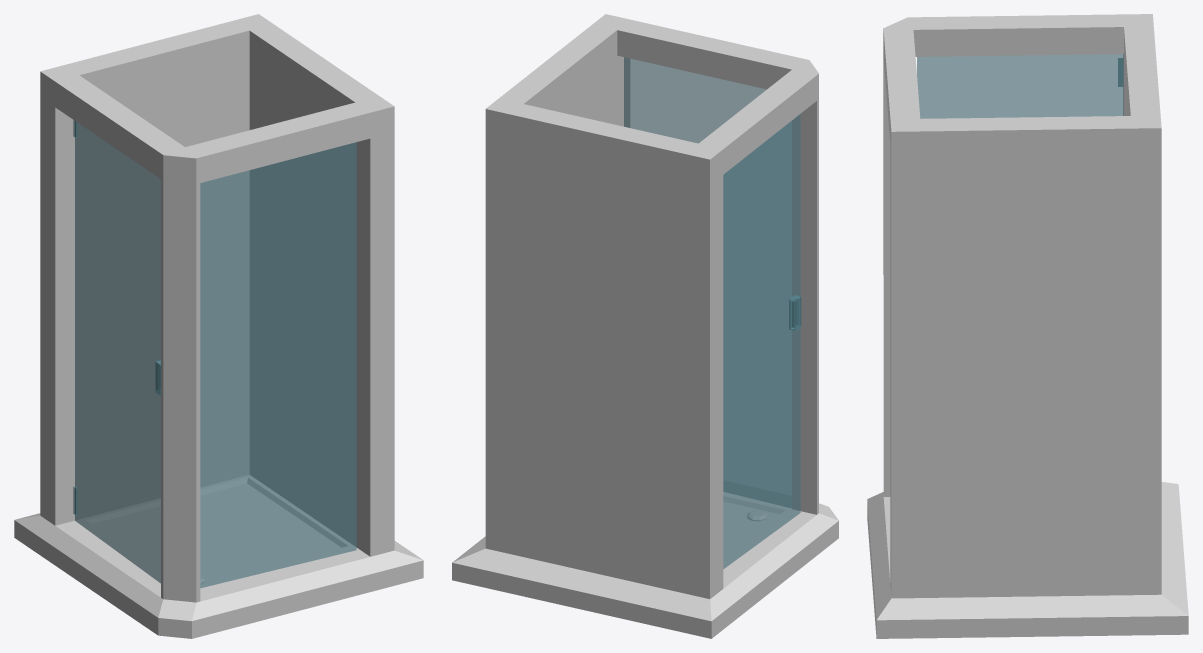
Rendered from shower.glb.
3 renders of one model, left to right at view 1: azimuth 30°, elevation 25°; view 2: azimuth 150°, elevation 25°; view 3: azimuth 270°, elevation 25°, orthographic. The views are drawn at different scales.
Visible parts, largest first — view 1: Circle.001_Cabin_0, Cube.010_Glass_0, Cube.011_Glass_0; view 2: Circle.001_Cabin_0, Cube.010_Glass_0, Cube.011_Glass_0; view 3: Circle.001_Cabin_0, Cube.011_Glass_0.
Part boxes in pixels (left/top/right/bottom): Circle.001_Cabin_0: left=14, top=14, right=423, bottom=638; Cube.010_Glass_0: left=200, top=142, right=356, bottom=587; Cube.011_Glass_0: left=73, top=120, right=160, bottom=583; Circle.001_Cabin_0: left=452, top=14, right=838, bottom=638; Cube.010_Glass_0: left=624, top=57, right=791, bottom=507; Cube.011_Glass_0: left=723, top=114, right=801, bottom=568; Circle.001_Cabin_0: left=867, top=14, right=1188, bottom=638; Cube.011_Glass_0: left=917, top=54, right=1123, bottom=118.
Size of the model in its own units: 235 by 399 by 234.
